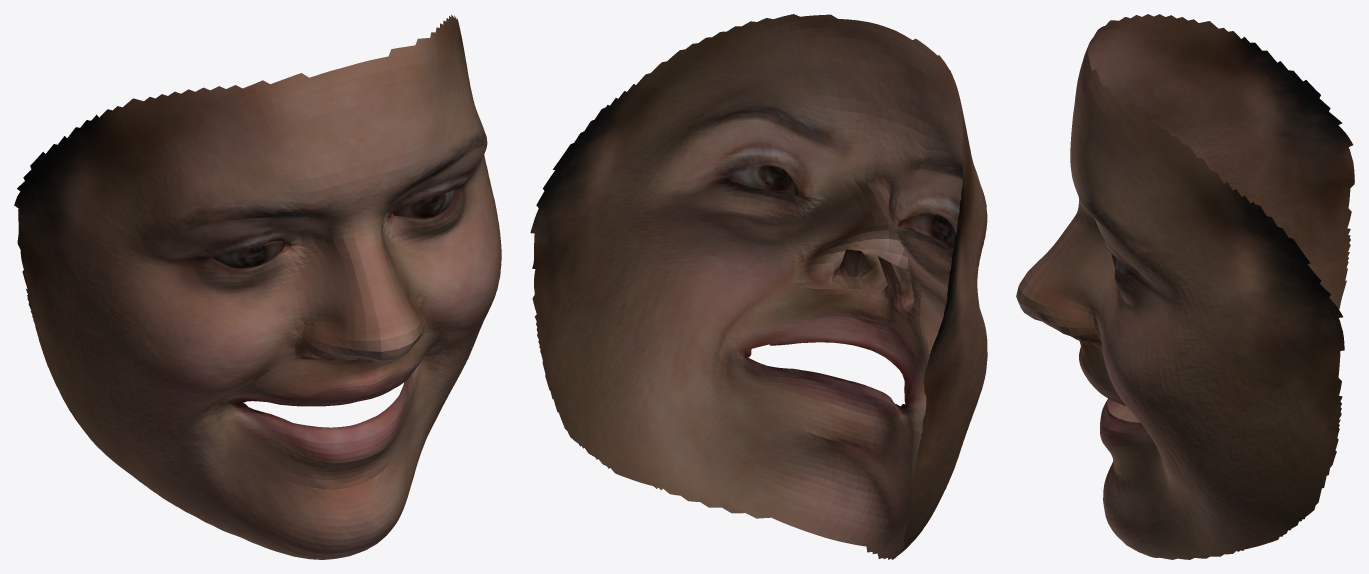
3 views of the same model, side by side, from view 1: azimuth 30°, elevation 25°; view 2: azimuth 150°, elevation 25°; view 3: azimuth 270°, elevation 25° (orthographic). The views are drawn at different scales.
Size of the model in its own units: 1.41 by 1.66 by 1.04.
